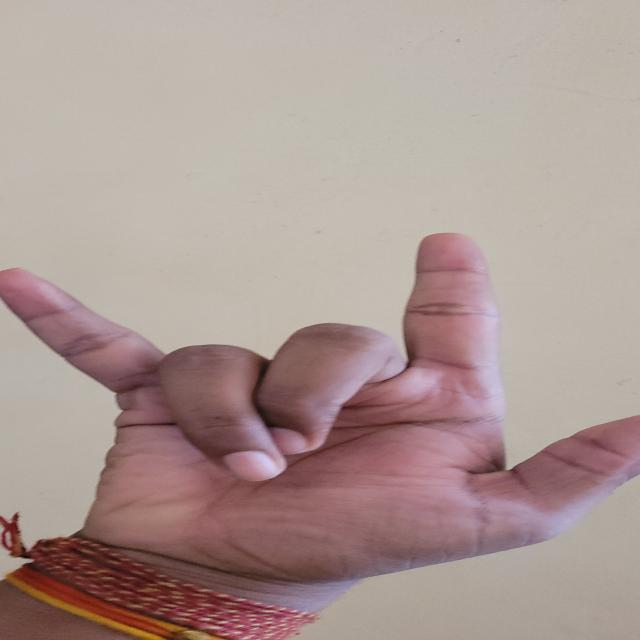i like you: (19, 219, 640, 610)
